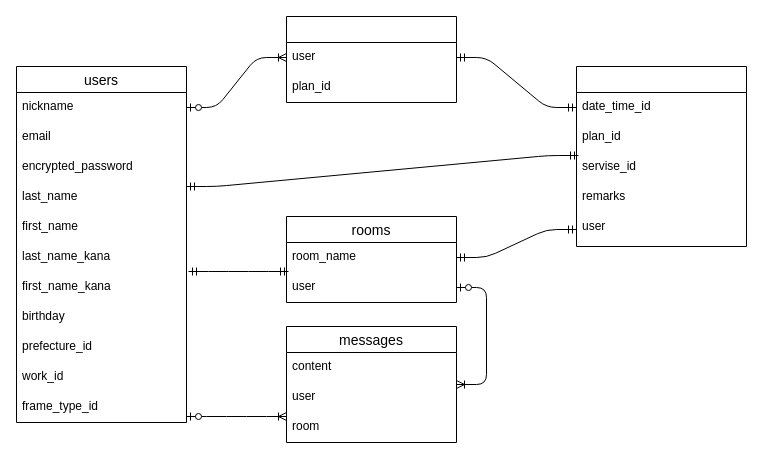
This 763x459 diagram has some shape labels left out. The box of each missing label's shape, as (x1, y1, x2, y2) in pixels:
orders: (286, 16, 456, 102)
reservations: (576, 66, 746, 246)
